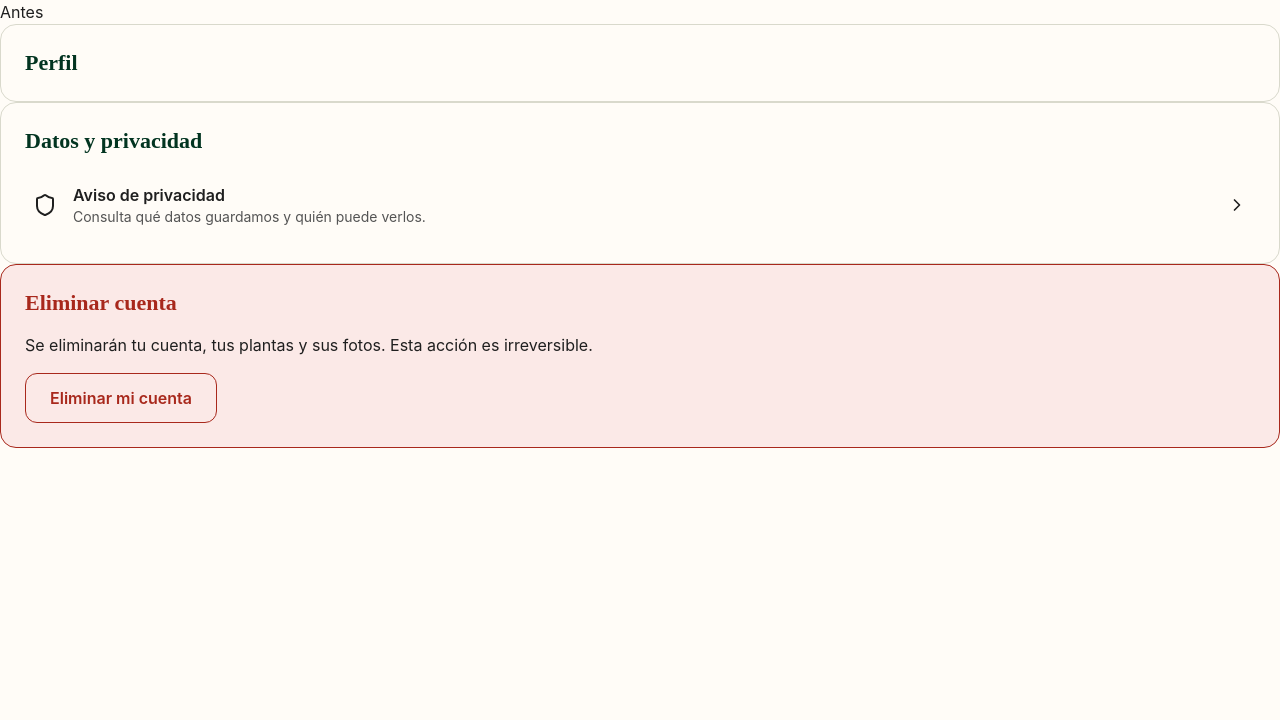
Scenario: AccountView › borra en orden, anuncia cada paso, limpia el dispositivo y termina
Later steps or results of the test are not shown.
Click the button "Eliminar mi cuenta" at (121, 398), box [25,373,217,423]
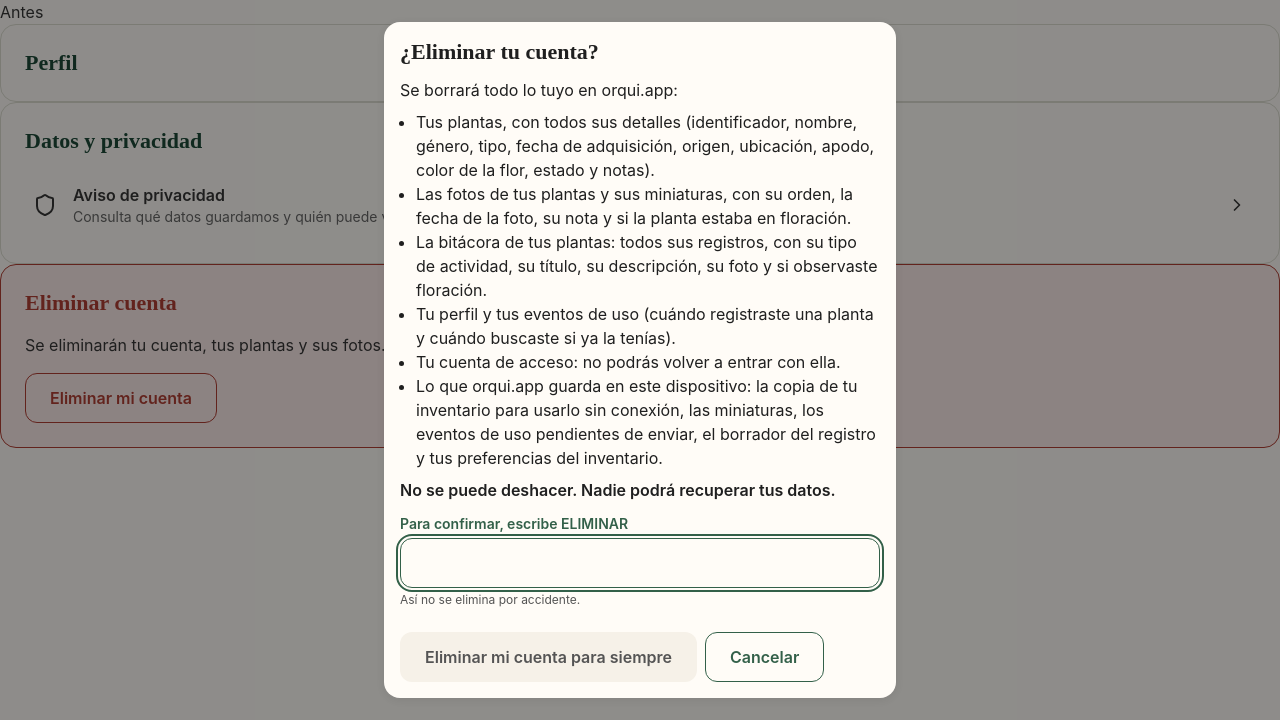
Type "ELIMINAR" into the field labelled "Para confirmar, escribe ELIMINAR" at (640, 563), box [400,538,880,588]
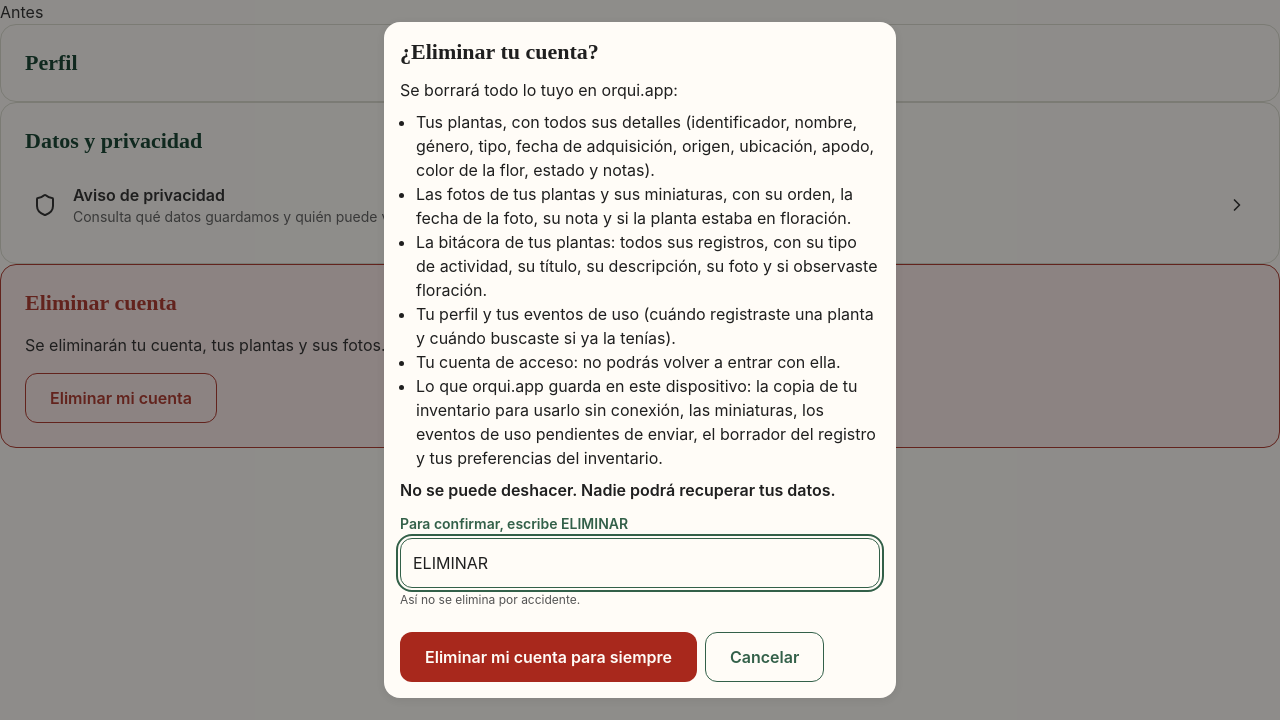
Click the button "Eliminar mi cuenta para siempre" at (548, 657), box [400,632,697,682]
(page scrolled)
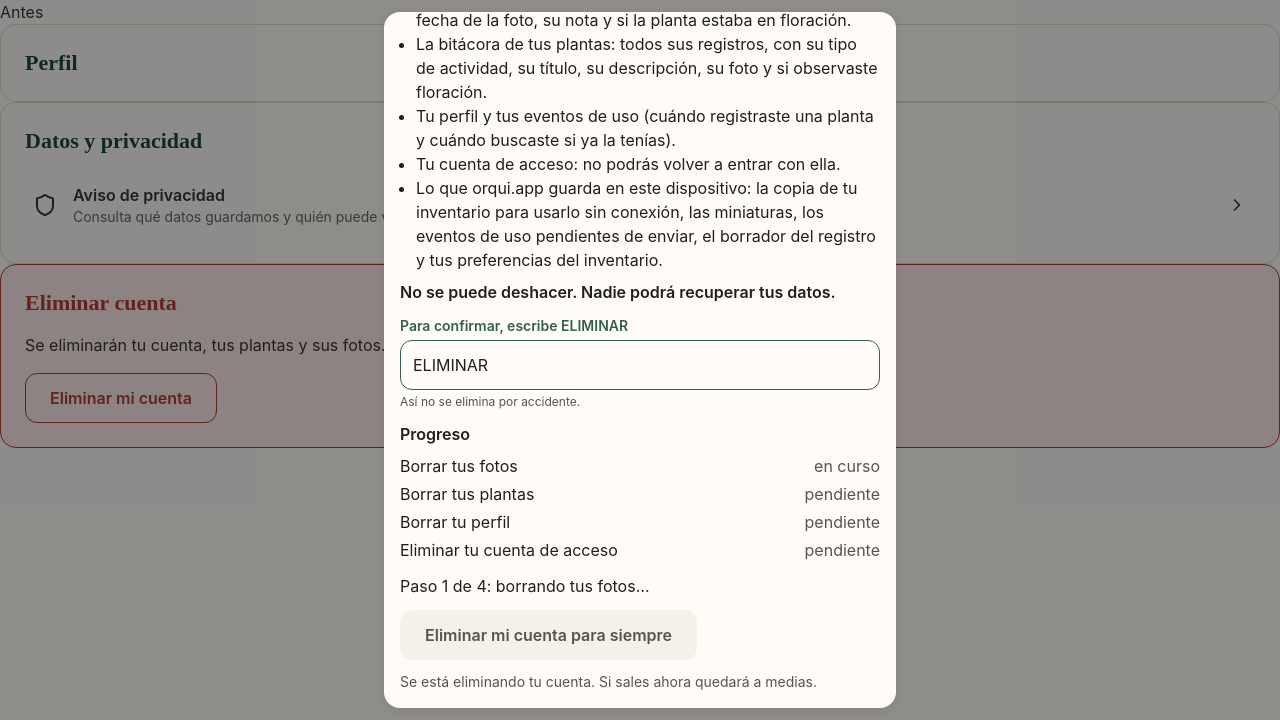
Check: the message reads "Paso 1 de 4: borrando tus fotos…", box [400,576,650,596]
Check: the button "Eliminar mi cuenta para siempre" is disabled, box [400,610,697,660]
Check: the button "Cancelar" is gone
Press Escape
Check: the dialog is shown, box [384,12,896,708]
